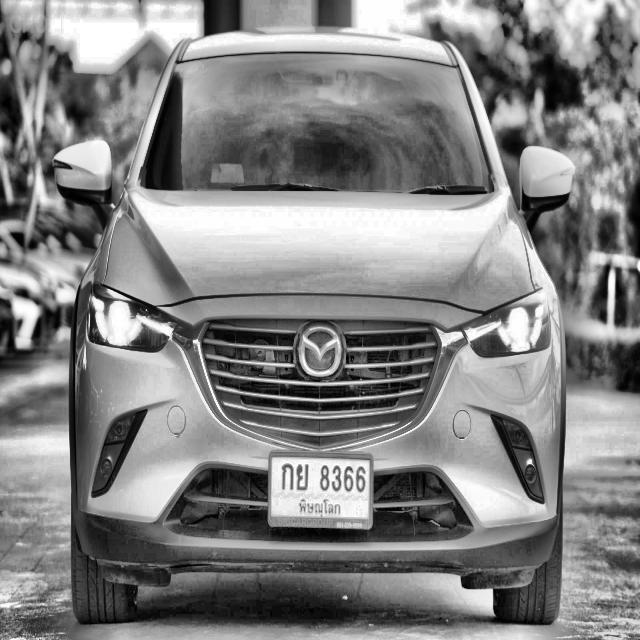license-plate: (270, 450, 373, 530)
